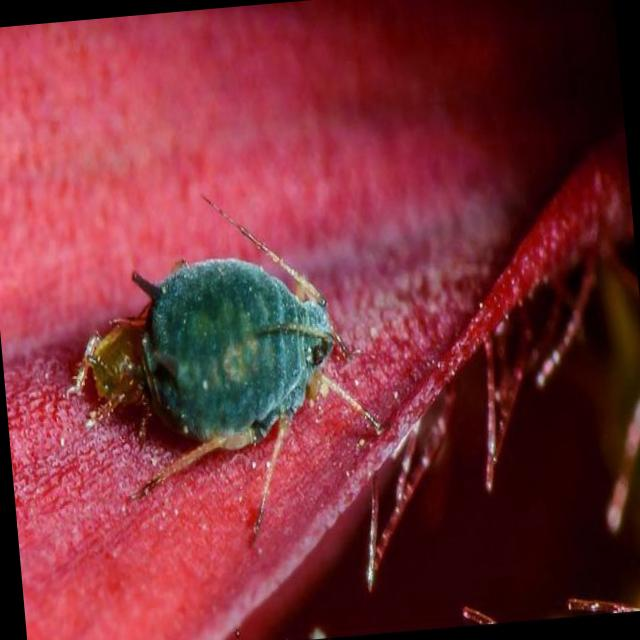aphid: (79, 243, 384, 474)
